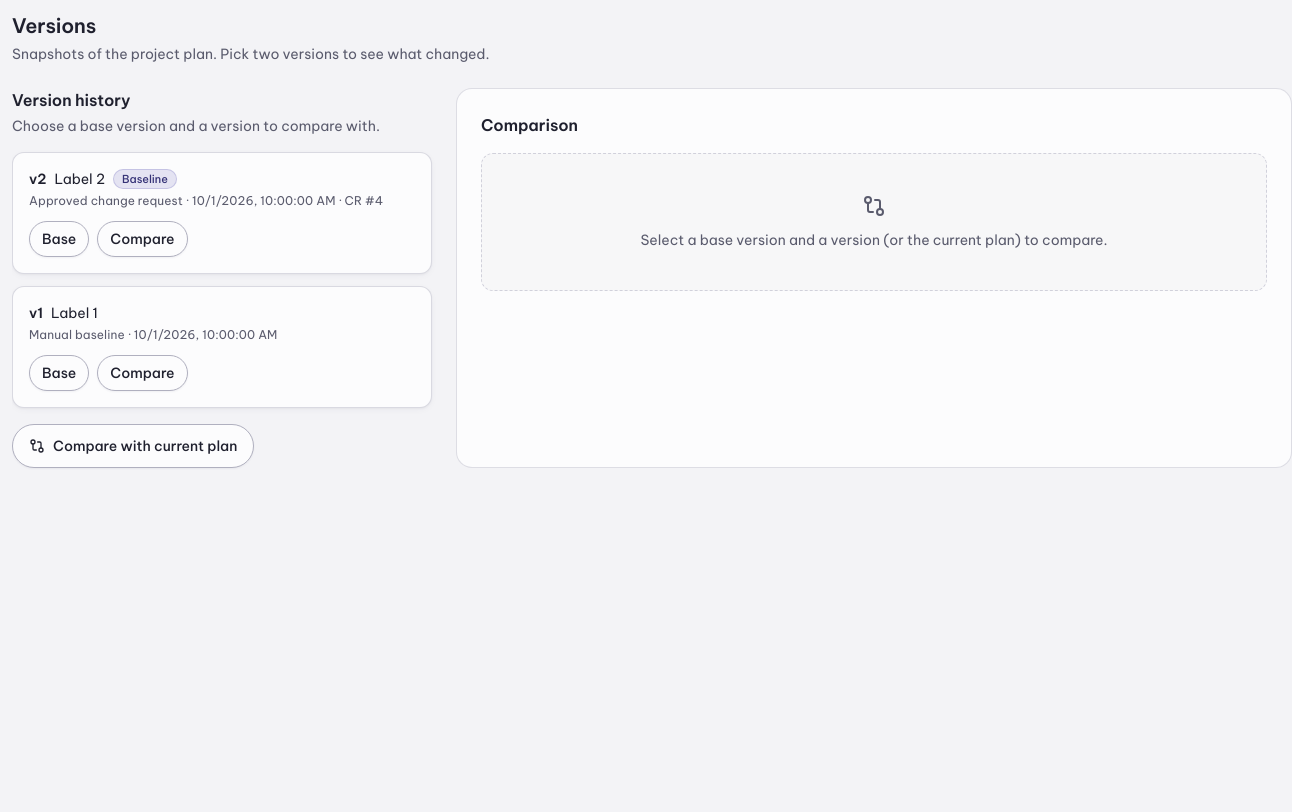
Test: trang phiên bản › hiển thị diff nhóm theo thực thể với nhãn chữ, không chỉ màu
Click the button with aria-label "Use v1 as base". click: click(59, 373)
box: [29, 355, 89, 391]
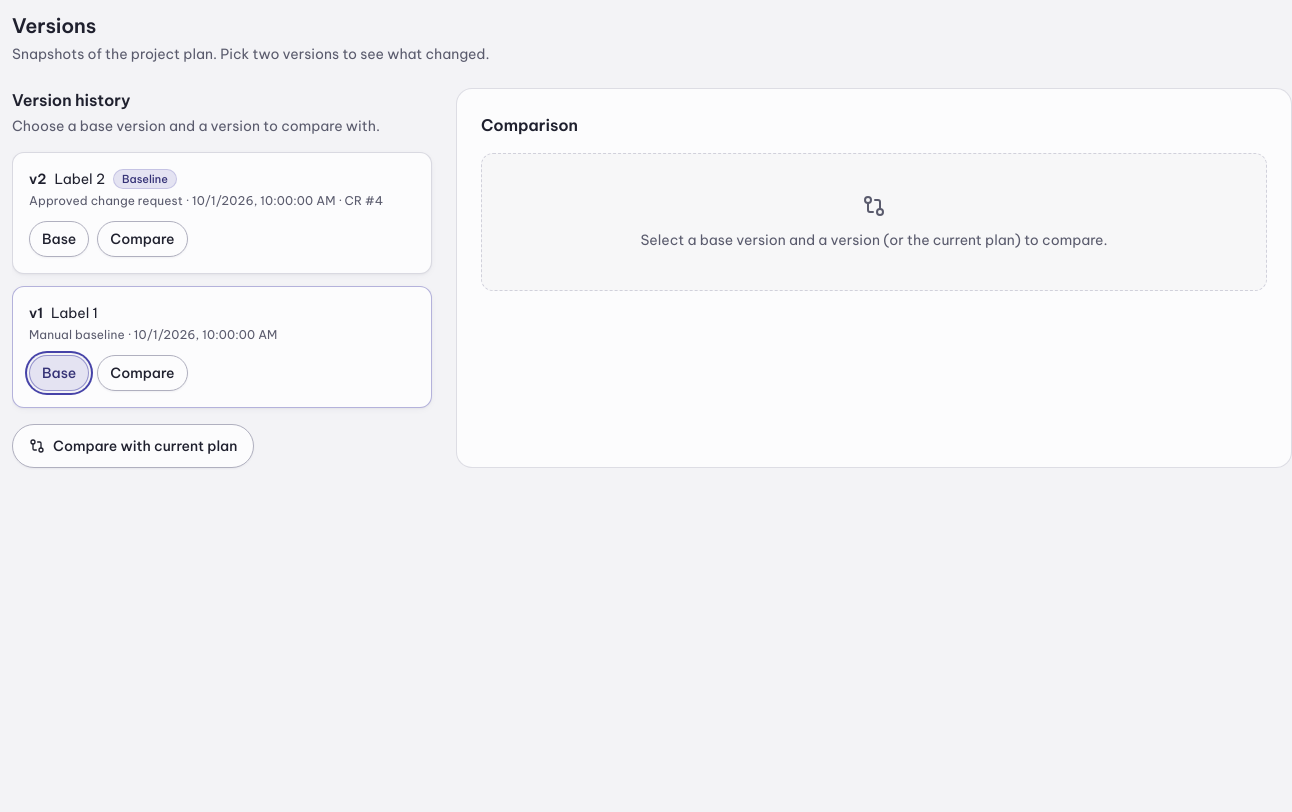
Click the button with aria-label "Compare with v2". click: click(142, 239)
box: [97, 221, 188, 257]
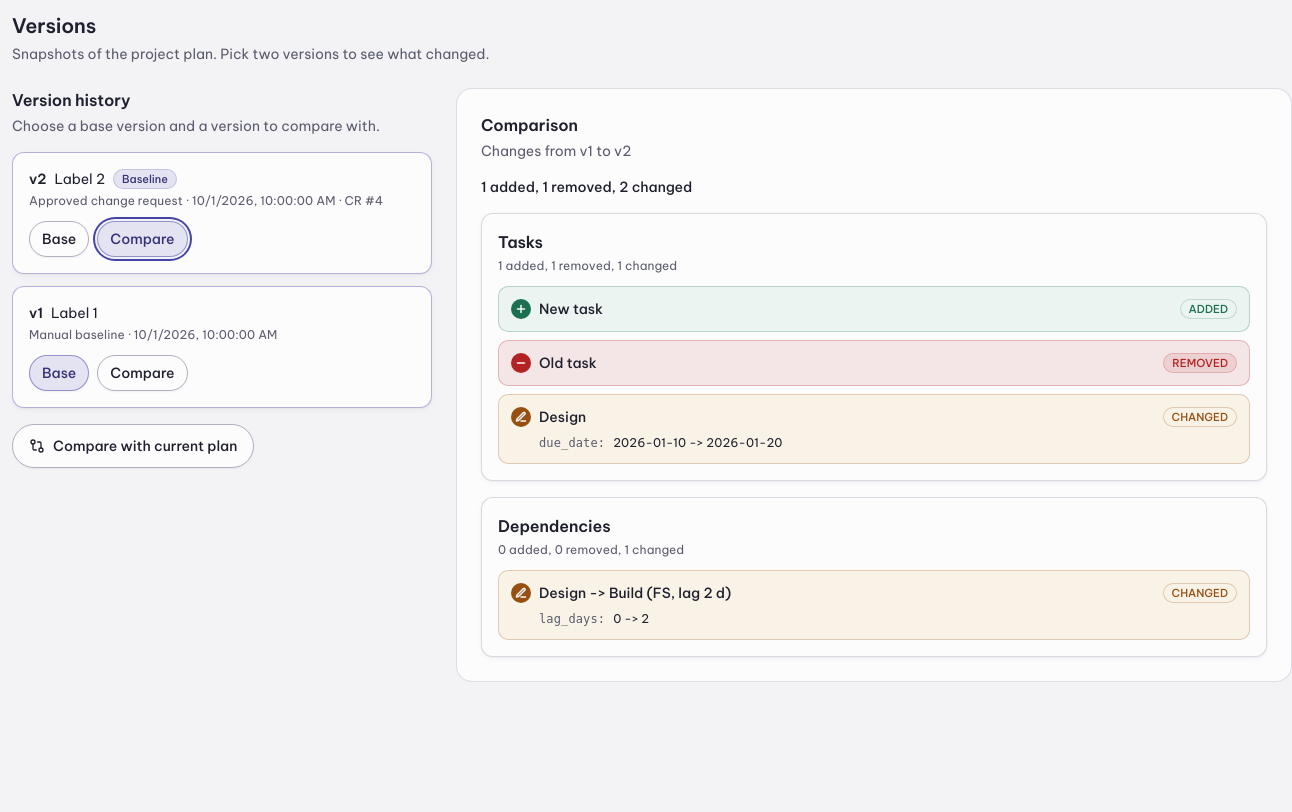
Check: the heading "Tasks" is shown, box [498, 232, 543, 252]
Check: the heading "Dependencies" is shown, box [498, 516, 611, 536]
Check: the text "New task" is shown, box [539, 300, 603, 318]
